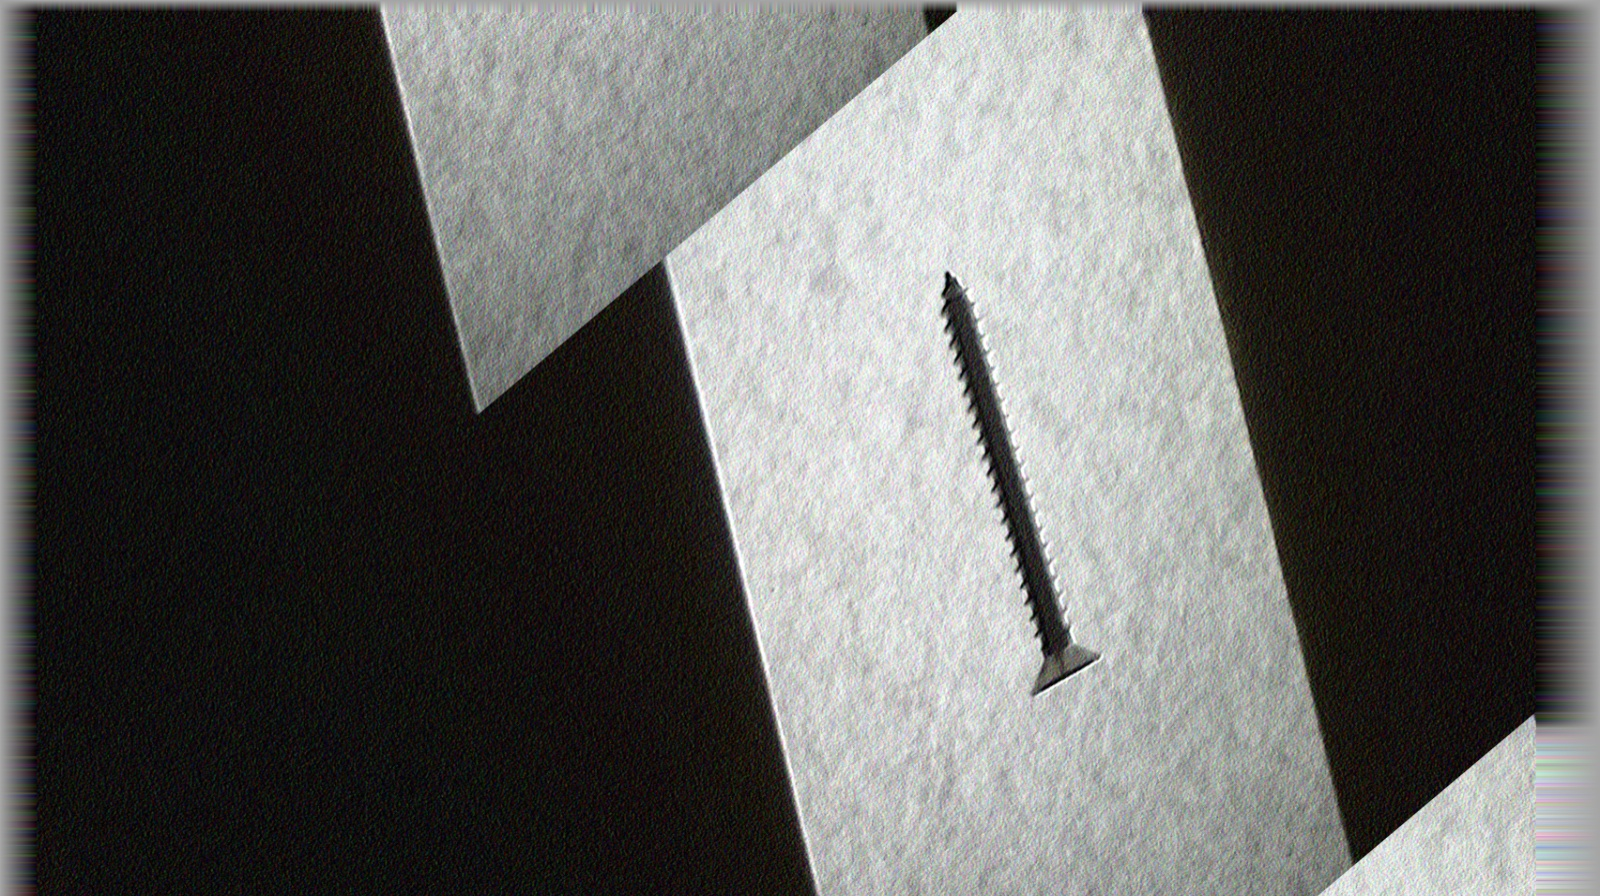S002: (847, 245, 1163, 732)
